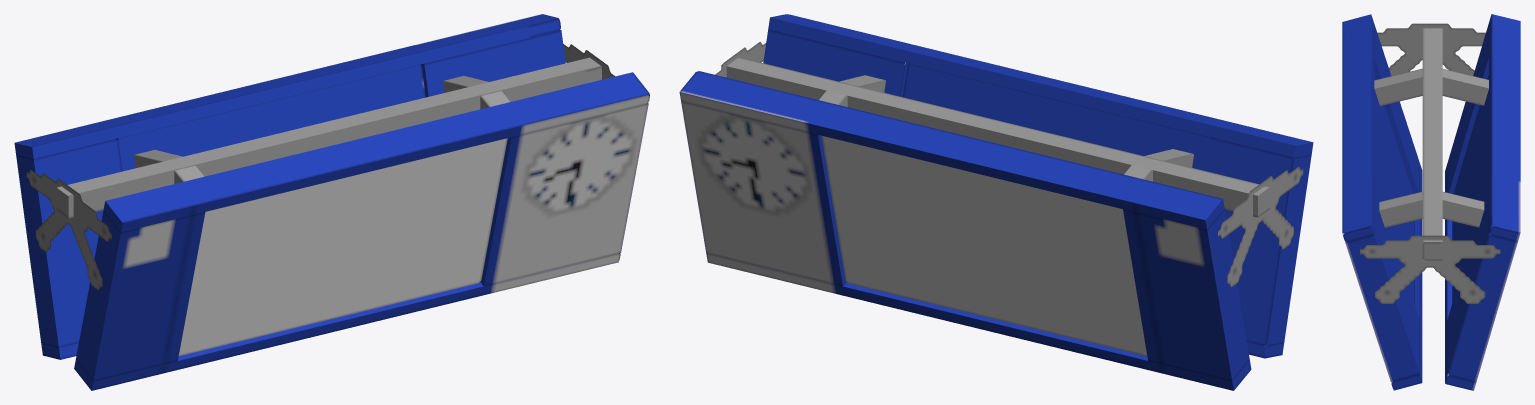
Rendered from ns_pids.obj.
3 renders of one model, left to right at view 1: azimuth 30°, elevation 25°; view 2: azimuth 150°, elevation 25°; view 3: azimuth 270°, elevation 25°, orthographic. The views are drawn at different scales.
Parts seen in each view (by area): view 1: cube; view 2: cube; view 3: cube.
Boxes of the visible parts, left/top/right/bottom form: cube: left=14, top=14, right=649, bottom=390; cube: left=679, top=14, right=1313, bottom=390; cube: left=1342, top=14, right=1520, bottom=390.
Size of the model in its own units: 3.19 by 1.14 by 1.11.
Materials: 1 (1 with a texture image).
